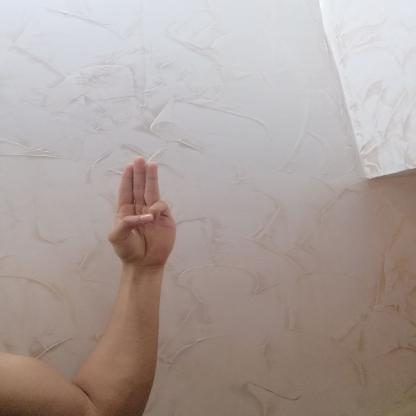THA: (98, 151, 182, 274)
